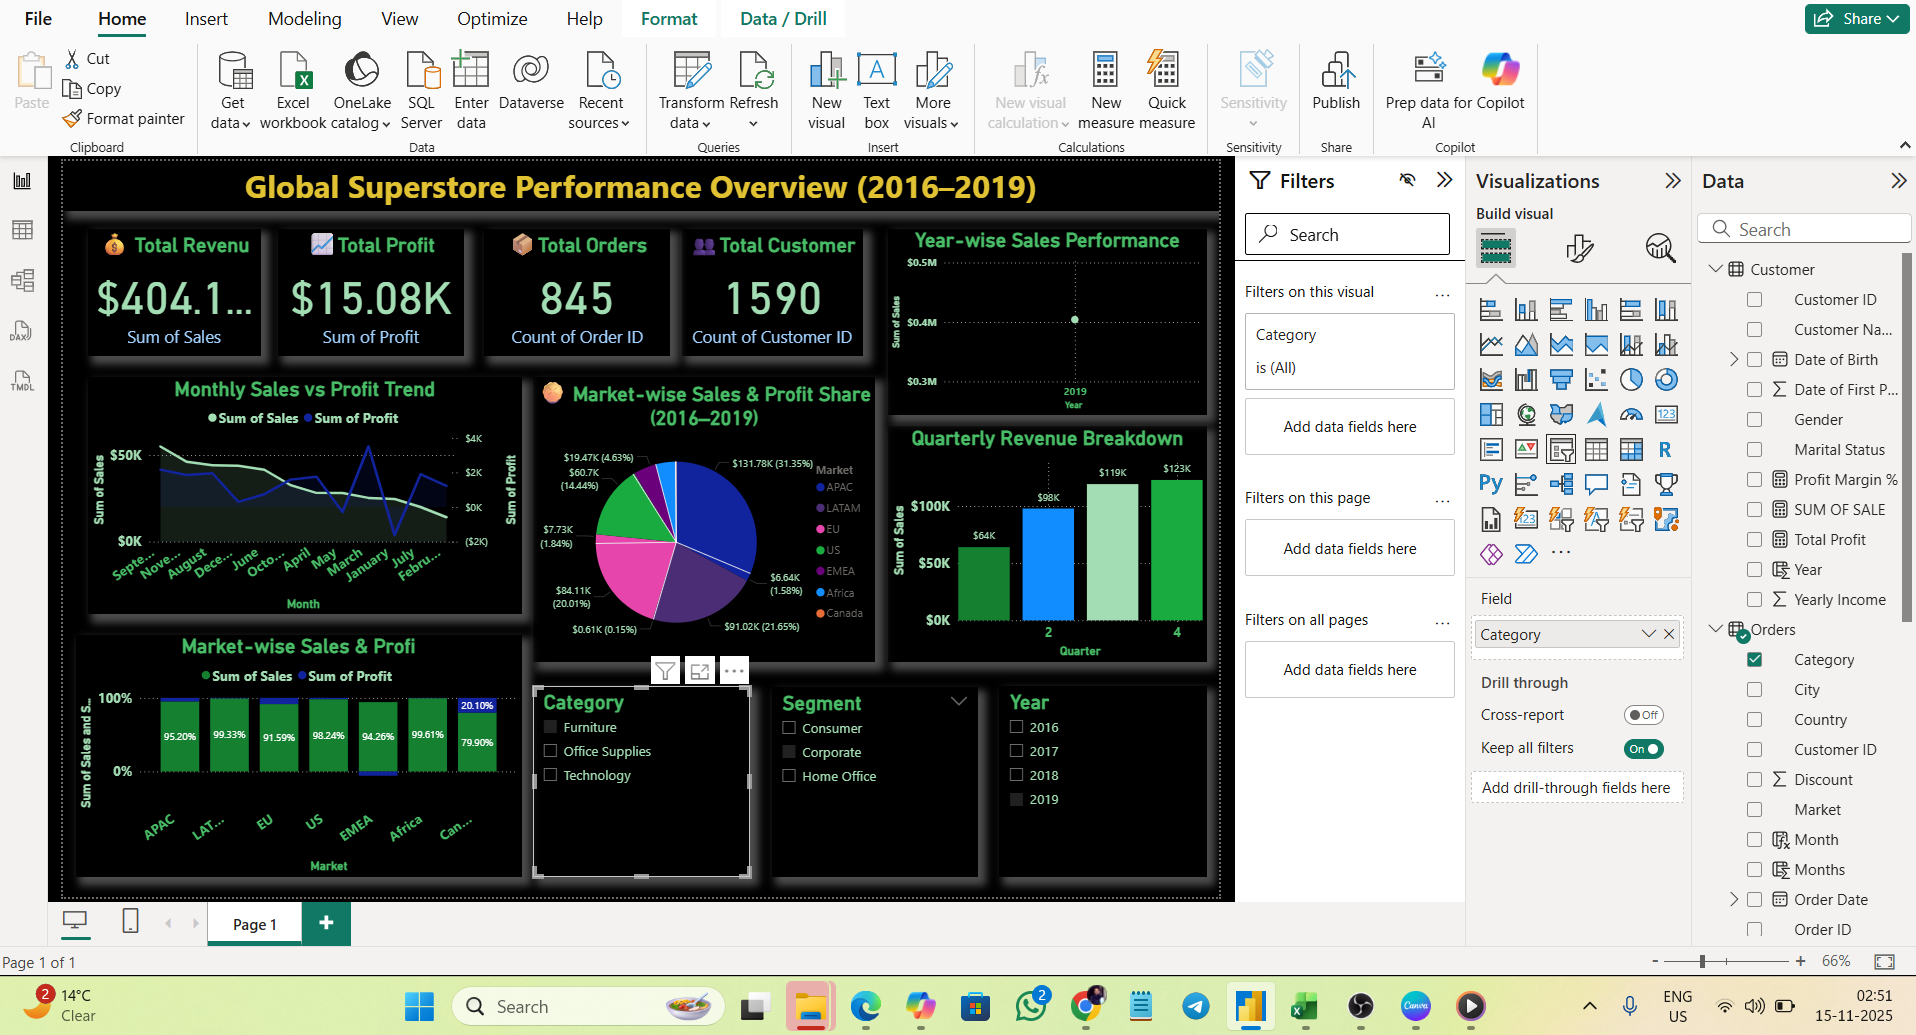

The dashboard page shown, as its layout file describes it:
{"tool":"powerbi","page":{"name":"Page 1","canvas":[1392,886],"ordinal":0},"visuals":[{"type":"card","title":"💰 Total Revenu","fields":{"Values":["Sum(Orders.Sales)"]},"box":[30.1,81.3,207.7,153.5],"z":0},{"type":"card","title":" 📦Total Orders","fields":{"Values":["Count(Orders.Order ID)"]},"box":[507.1,81.3,224.2,153.5],"z":1000},{"type":"card","title":"👥Total Customer","fields":{"Values":["Count(Customer.Customer ID)"]},"box":[744.9,81.3,218.2,153.5],"z":2000},{"type":"card","title":"📈Total Profit","fields":{"Values":["Sum(Orders.Profit)"]},"box":[258.8,81.3,224.2,153.5],"z":3000},{"type":"textbox","box":[0,0,1391.9,60.2],"z":4000},{"type":"lineChart","title":"Year-wise Sales Performance","fields":{"Category":["Orders.Year"],"Y":["Sum(Orders.Sales)"]},"box":[993.1,81.3,383.7,224.2],"z":5000},{"type":"lineChart","title":"Monthly Sales vs Profit Trend","fields":{"Y":["Sum(Orders.Sales)"],"Y2":["Sum(Orders.Profit)"],"Category":["Orders.MonthName : Month"]},"box":[30.1,260.3,522.2,285.9],"z":6000},{"type":"hundredPercentStackedColumnChart","title":"Market-wise Sales & Profi","fields":{"Category":["Orders.Market"],"Y":["Sum(Orders.Sales)","Sum(Orders.Profit)"]},"box":[15,570.3,537.2,291.9],"z":7000},{"type":"slicer","fields":{"Values":["Orders.Category"]},"box":[565.8,632,261.8,230.2],"z":8000},{"type":"slicer","fields":{"Values":["Orders.Segment"]},"box":[853.2,633.5,248.3,228.7],"z":9000},{"type":"clusteredColumnChart","title":"Quarterly Revenue Breakdown","fields":{"Category":["Orders.Quarter"],"Y":["Sum(Orders.Sales)"]},"box":[993,319,384,284],"z":10000},{"type":"slicer","fields":{"Values":["Orders.Year"]},"box":[1127.1,632,249.8,230.2],"z":11000},{"type":"pieChart","title":"🥧 Market-wise Sales & Profit Share (2016–2019)","fields":{"Category":["Orders.Market","Orders.Category"],"Y":["Sum(Orders.Sales)","Sum(Orders.Profit)"]},"box":[565.8,260.3,412.3,343.1],"z":12000}]}

Visuals, with their boxes on the page's 1392x886 design canvas (x1, y1, x2, y2). These are canvas units, not pixel positions in the 1916x1035 screenshot, which may show the page scaled, cropped or inside an application window:
"💰 Total Revenu" card: left=30, top=81, right=238, bottom=235
" 📦Total Orders" card: left=507, top=81, right=731, bottom=235
"👥Total Customer" card: left=745, top=81, right=963, bottom=235
"📈Total Profit" card: left=259, top=81, right=483, bottom=235
textbox: left=0, top=0, right=1392, bottom=60
"Year-wise Sales Performance" lineChart: left=993, top=81, right=1377, bottom=306
"Monthly Sales vs Profit Trend" lineChart: left=30, top=260, right=552, bottom=546
"Market-wise Sales & Profi" hundredPercentStackedColumnChart: left=15, top=570, right=552, bottom=862
slicer - Orders.Category: left=566, top=632, right=828, bottom=862
slicer - Orders.Segment: left=853, top=634, right=1102, bottom=862
"Quarterly Revenue Breakdown" clusteredColumnChart: left=993, top=319, right=1377, bottom=603
slicer - Orders.Year: left=1127, top=632, right=1377, bottom=862
"🥧 Market-wise Sales & Profit Share (2016–2019)" pieChart: left=566, top=260, right=978, bottom=603
